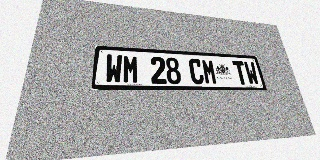2: (150, 56, 167, 84)
8: (165, 57, 182, 84)
C: (188, 58, 205, 84)
M: (123, 55, 139, 84), (201, 59, 218, 84)
T: (232, 61, 249, 85)
W: (105, 54, 122, 83), (243, 61, 260, 85)
